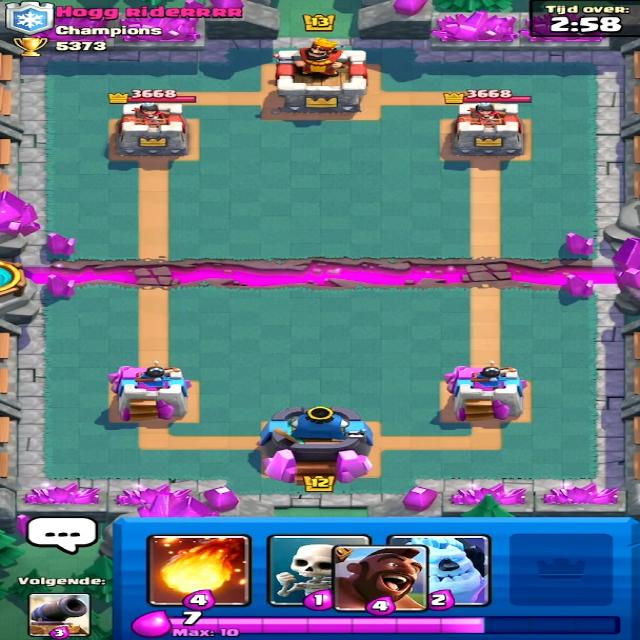Fireball_Card: (158, 539, 247, 606)
